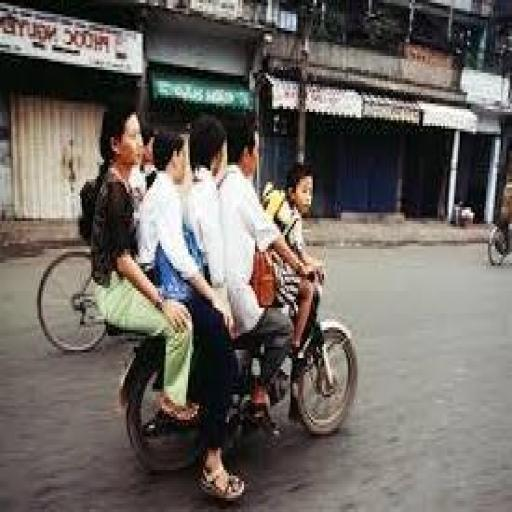no helmet: (221, 106, 290, 205)
triple riding: (67, 81, 387, 512)
